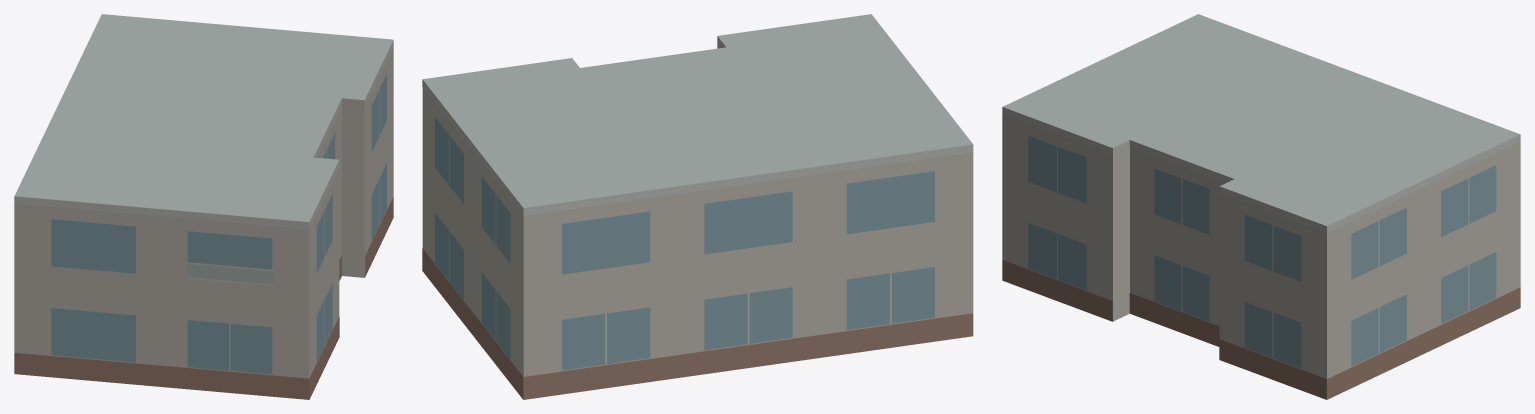
Rendered from survey-upis-32722093.glb.
The picture shows the model from 3 angles, left to right: view 1: azimuth 30°, elevation 25°; view 2: azimuth 150°, elevation 25°; view 3: azimuth 270°, elevation 25°; orthographic projection. The views are drawn at different scales.
Visible parts, largest first — view 1: survey-upis-32722093.tmp; view 2: survey-upis-32722093.tmp; view 3: survey-upis-32722093.tmp.
Boxes of the visible parts, x1=… form: survey-upis-32722093.tmp: x1=14, y1=14, x2=393, y2=399; survey-upis-32722093.tmp: x1=422, y1=14, x2=973, y2=399; survey-upis-32722093.tmp: x1=1002, y1=14, x2=1520, y2=399.
Size of the model in its own units: 15.99 by 6.1 by 16.5.
